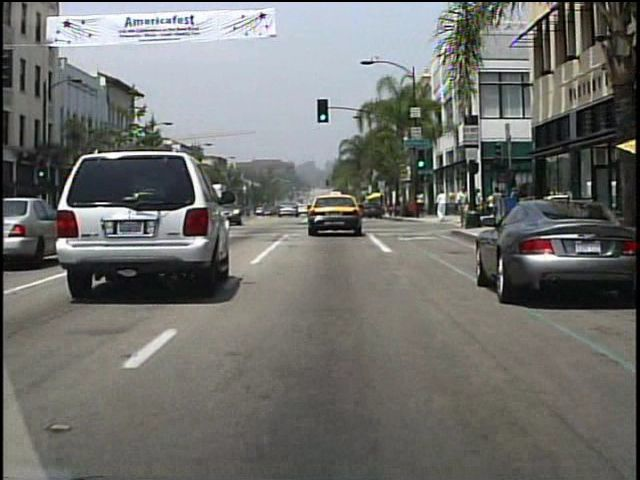person: (486, 187, 505, 228), (470, 187, 487, 227), (456, 185, 469, 227), (435, 189, 448, 222), (417, 190, 427, 217)
